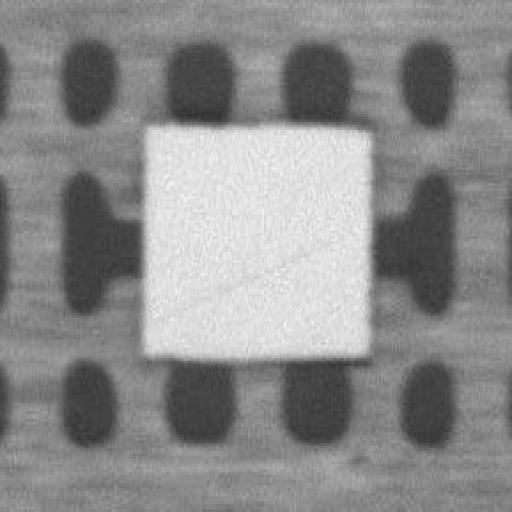DIE_CRACK: (228, 160, 494, 212)
